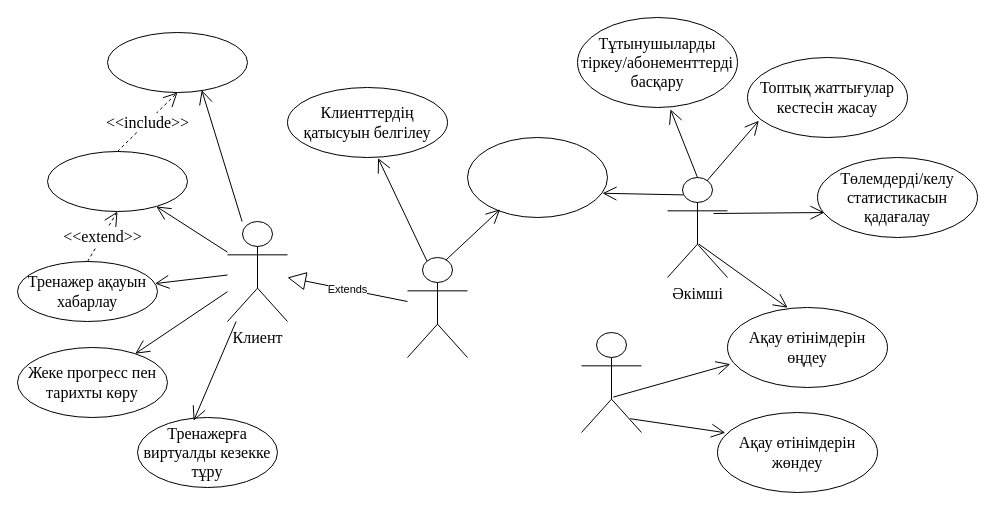
Some shapes in this 995 by 510 pixel diagram are drawn without their labels. The shapes that lost their labels are listed below. From the top down, each one's box as (x1, y1, x2, y2) in pixels, then its label:
(106, 32, 248, 92): Зал жүктемесін тексеру
(46, 150, 188, 212): Турникет арқылы залға кіру
(466, 136, 608, 218): Жұмыс кестесін көру / клиенттер тізімін көру
(406, 256, 468, 358): Жаттықтырушы
(580, 332, 642, 432): Сервистік инженер
